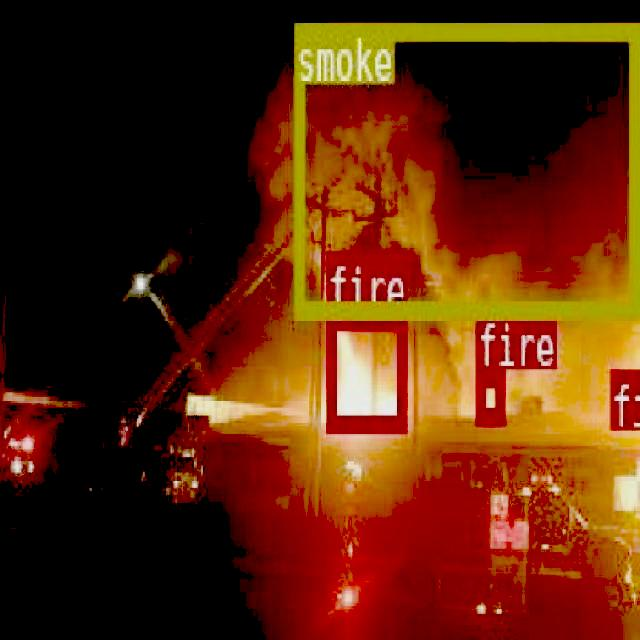fire: (324, 309, 404, 428), (475, 368, 503, 421), (610, 368, 636, 419)
smoke: (292, 20, 636, 314)
